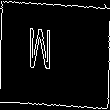M_S: (42, 29, 68, 81)
